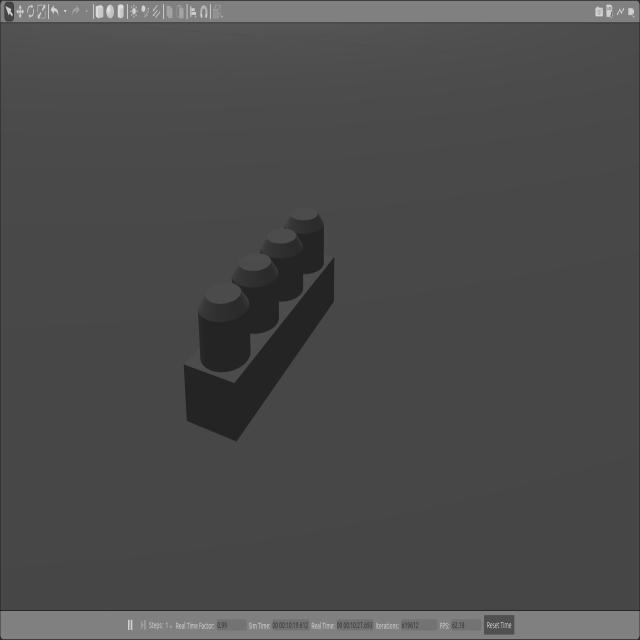block8: (183, 206, 335, 443)
